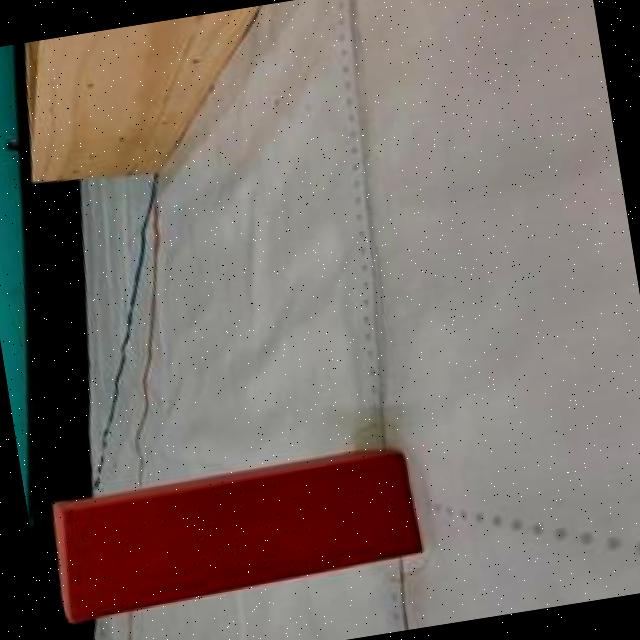redbox: (42, 443, 424, 628)
